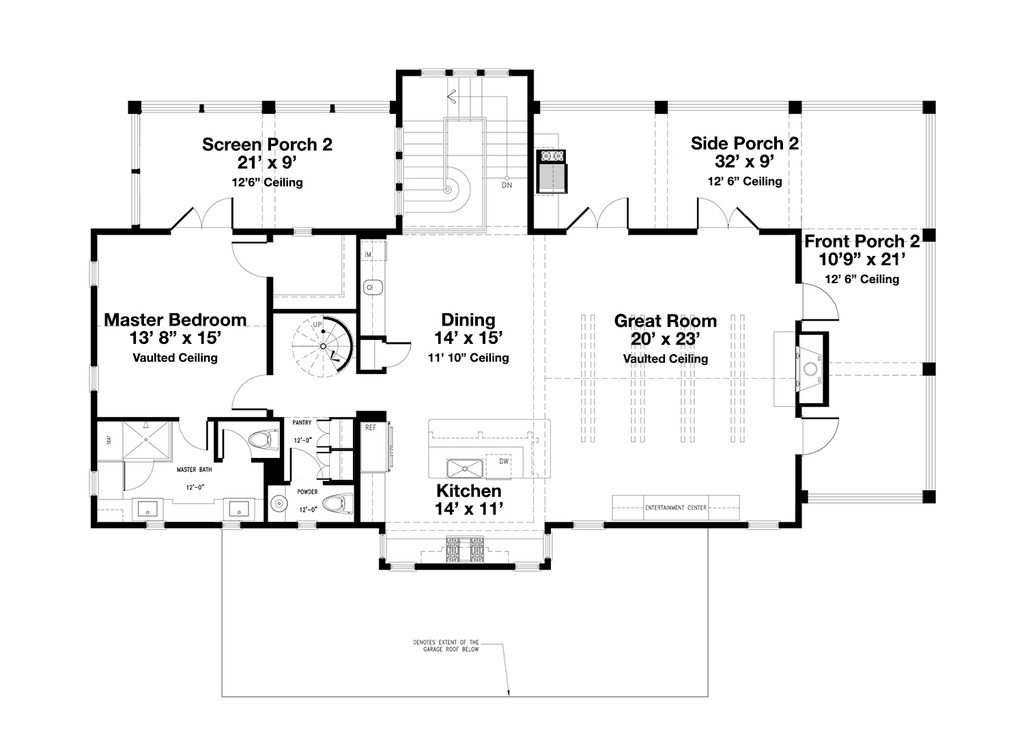door: (692, 195, 757, 237), (562, 197, 634, 234), (794, 278, 843, 322), (800, 413, 843, 461), (173, 196, 235, 229), (226, 368, 268, 411), (229, 239, 270, 280), (289, 444, 326, 488), (118, 455, 160, 492), (217, 428, 258, 462), (177, 417, 210, 452), (382, 337, 412, 371)
large_sink: (316, 489, 353, 516)
small_sink: (212, 492, 259, 520), (131, 498, 165, 521)
stairs: (400, 77, 530, 232), (289, 314, 353, 378)
windows: (392, 120, 404, 218), (570, 513, 607, 534), (507, 558, 546, 573), (743, 518, 781, 532), (385, 560, 418, 574), (88, 361, 100, 393), (86, 260, 99, 286)
